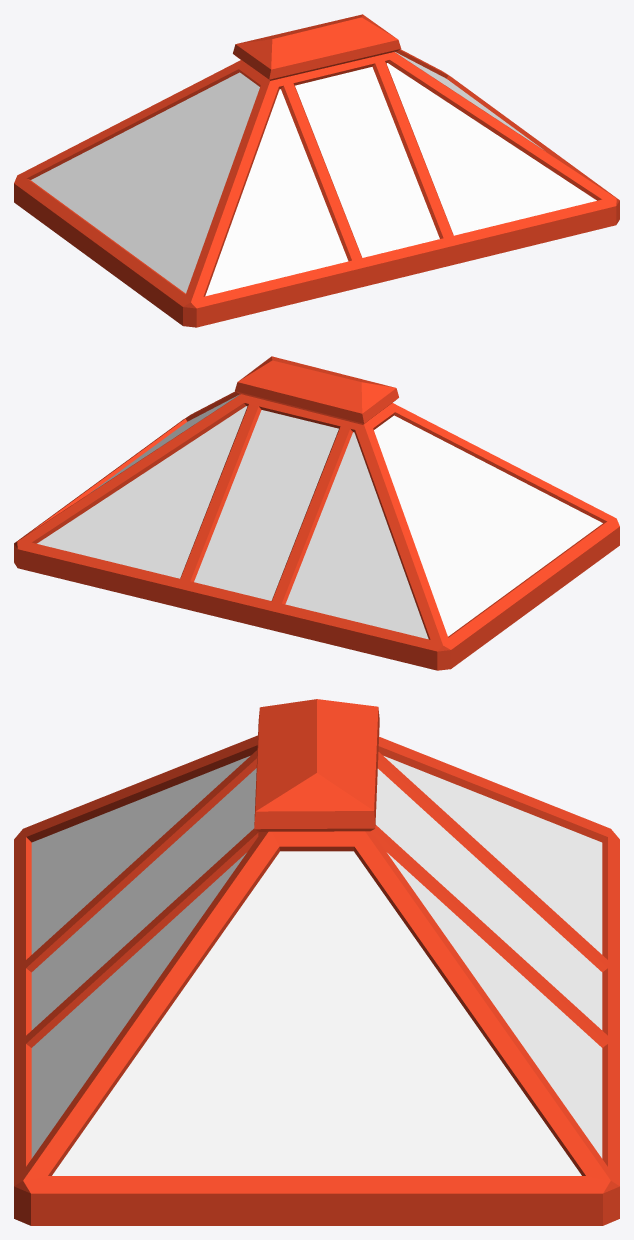
Rendered from SM_Window_Roof_B_City.fbx.
The picture shows the model from 3 angles, top to bottom: view 1: azimuth 30°, elevation 25°; view 2: azimuth 150°, elevation 25°; view 3: azimuth 270°, elevation 25°; orthographic projection. The views are drawn at different scales.
Parts seen in each view (by area): view 1: SM_Window_Roof_B_City; view 2: SM_Window_Roof_B_City; view 3: SM_Window_Roof_B_City.
Part boxes in pixels (x1,y1,x2,y2): SM_Window_Roof_B_City: [14, 14, 619, 327]; SM_Window_Roof_B_City: [14, 356, 619, 670]; SM_Window_Roof_B_City: [14, 699, 619, 1225].
Size of the model in its own units: 2.36 by 0.9431 by 1.67.
